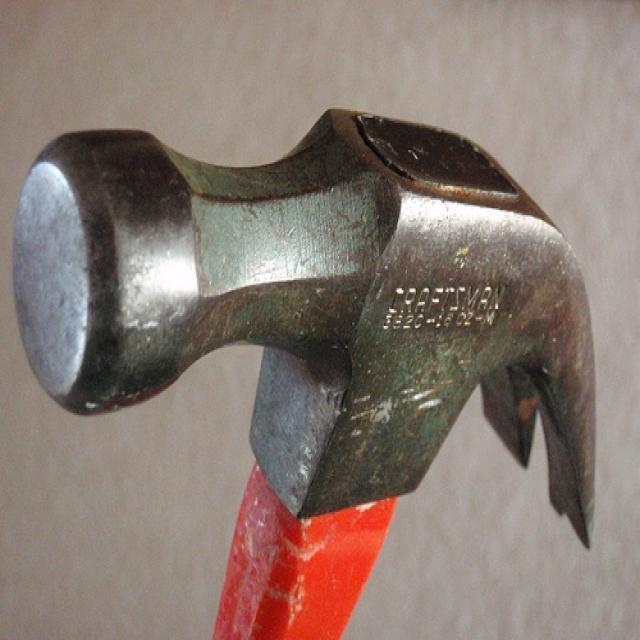hammer: (4, 90, 606, 640)
